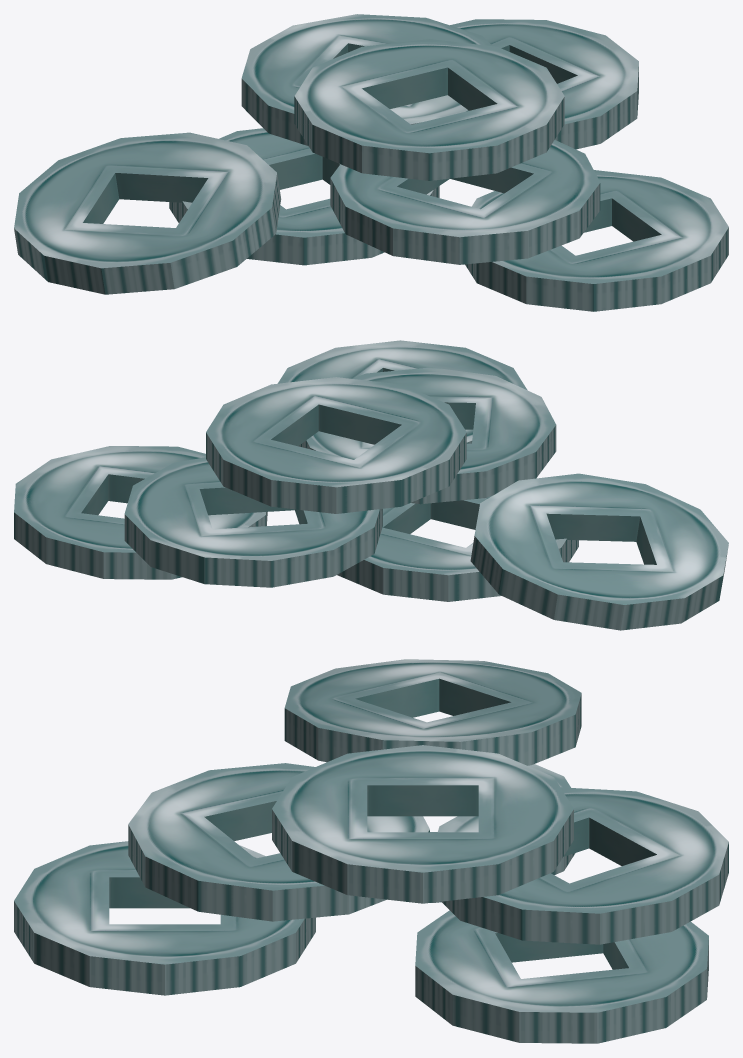
Rendered from coin_hole_04.fbx.
The picture shows the model from 3 angles, top to bottom: view 1: azimuth 30°, elevation 25°; view 2: azimuth 150°, elevation 25°; view 3: azimuth 270°, elevation 25°; orthographic projection. The views are drawn at different scales.
Visible parts, largest first — view 1: coin_hole_04; view 2: coin_hole_04; view 3: coin_hole_04.
Boxes of the visible parts, x1,y1,x2,y2 form: coin_hole_04: [14, 14, 728, 311]; coin_hole_04: [14, 340, 728, 630]; coin_hole_04: [14, 659, 728, 1043].
Bounding box in the file's own units: 7.27 × 0.923 × 6.22.
